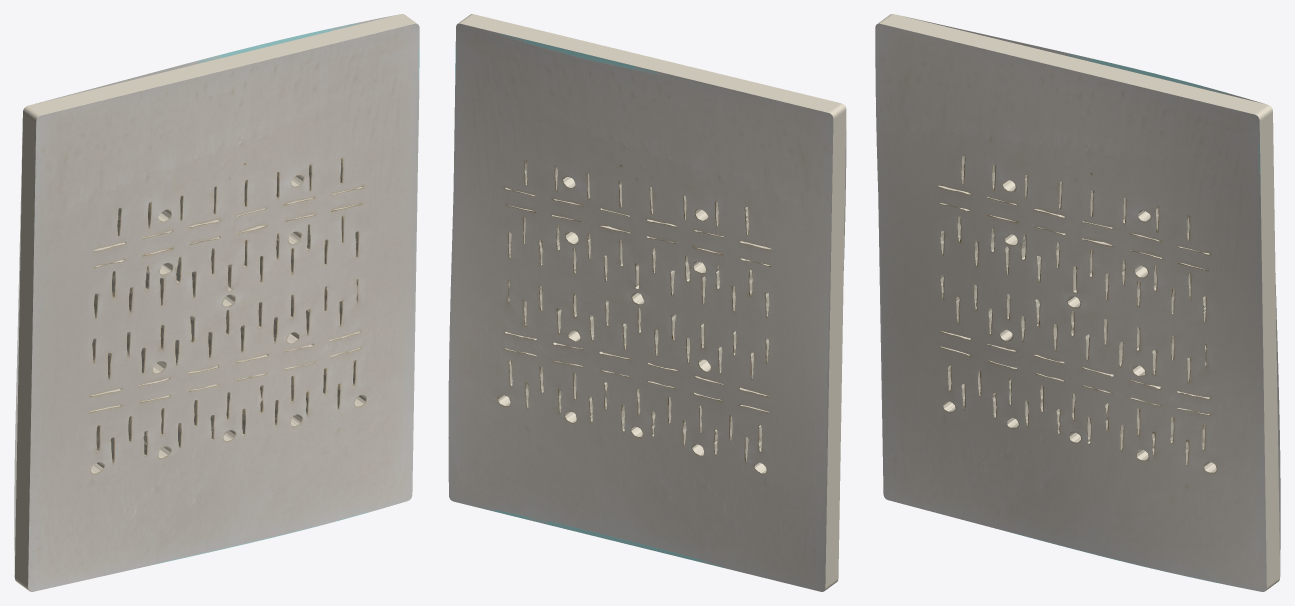
Rendered from adm-sheet.glb.
3 views of the same model, side by side, from view 1: azimuth 30°, elevation 25°; view 2: azimuth 150°, elevation 25°; view 3: azimuth 330°, elevation 25° (orthographic).
Parts seen in each view (by area): view 1: ADM_Detail, ADM_Motion; view 2: ADM_Motion, ADM_Detail; view 3: ADM_Detail, ADM_Motion.
Boxes of the visible parts, bbox=[...] form: ADM_Detail: bbox=[14, 14, 419, 591]; ADM_Motion: bbox=[15, 14, 419, 591]; ADM_Motion: bbox=[449, 14, 846, 591]; ADM_Detail: bbox=[448, 14, 846, 591]; ADM_Detail: bbox=[875, 14, 1280, 591]; ADM_Motion: bbox=[875, 14, 1279, 591].
Bounding box in the file's own units: 0.8337 × 1 × 0.0824.
Materials: 2 (1 with a texture image).
